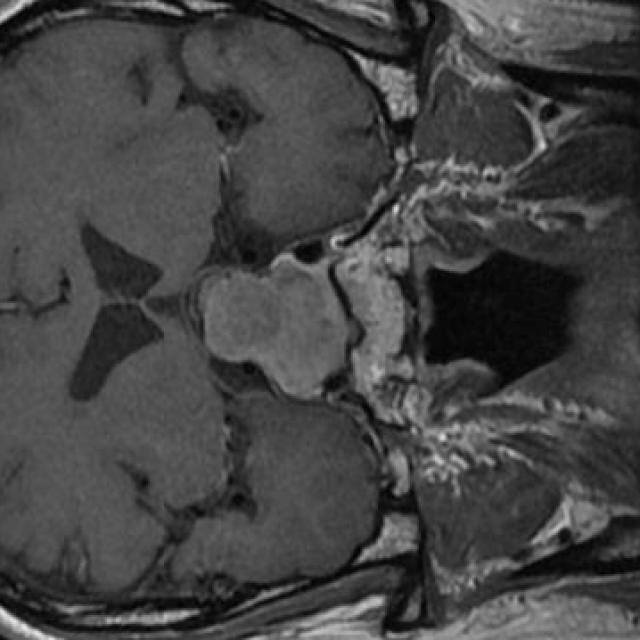pituitary: (203, 253, 349, 399)
